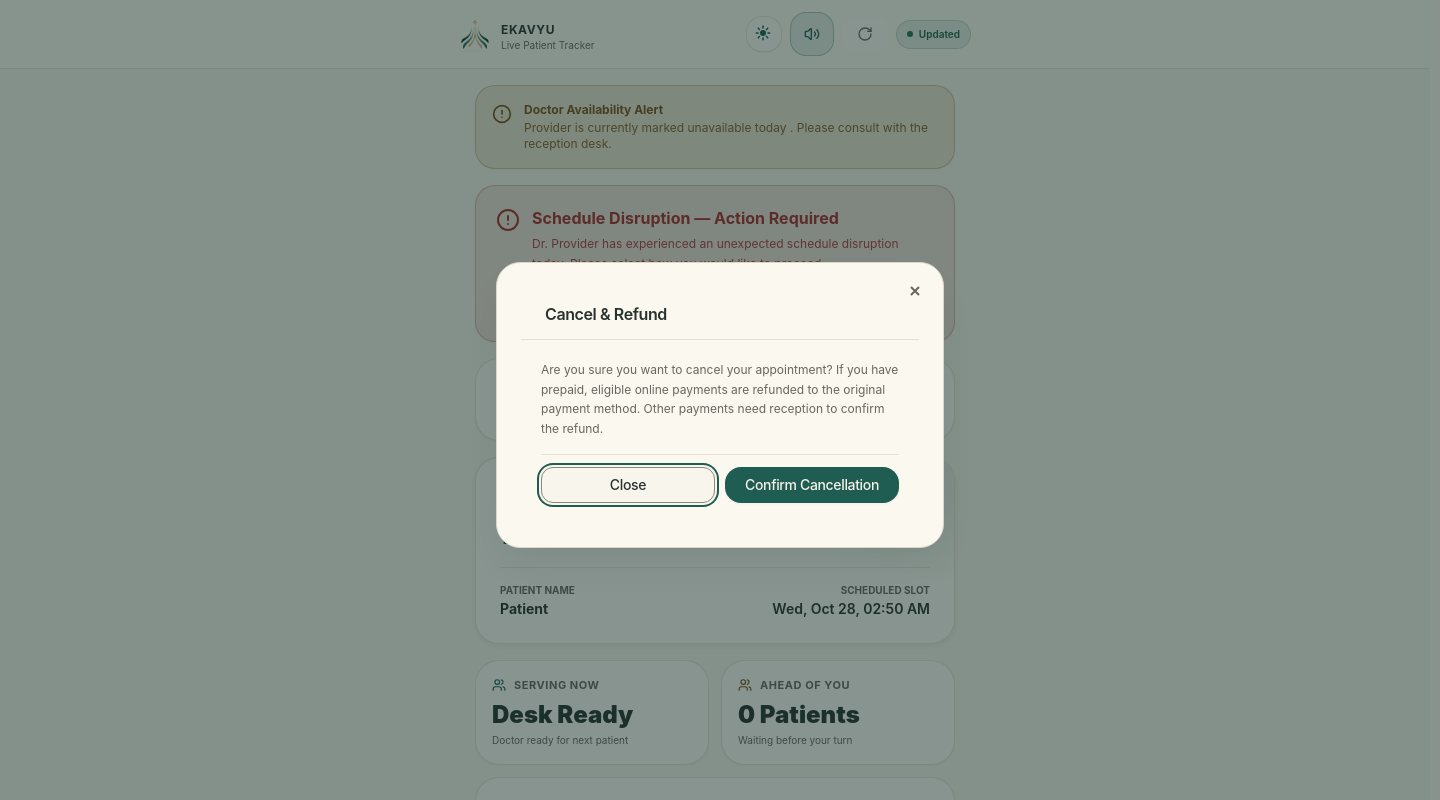
Scenario: reports the server's refunded result without promising an unprocessed refund
The width and height of the screenshot is (1440, 800).
Click the button "Confirm Cancellation": (812, 485) [725, 467, 899, 503]
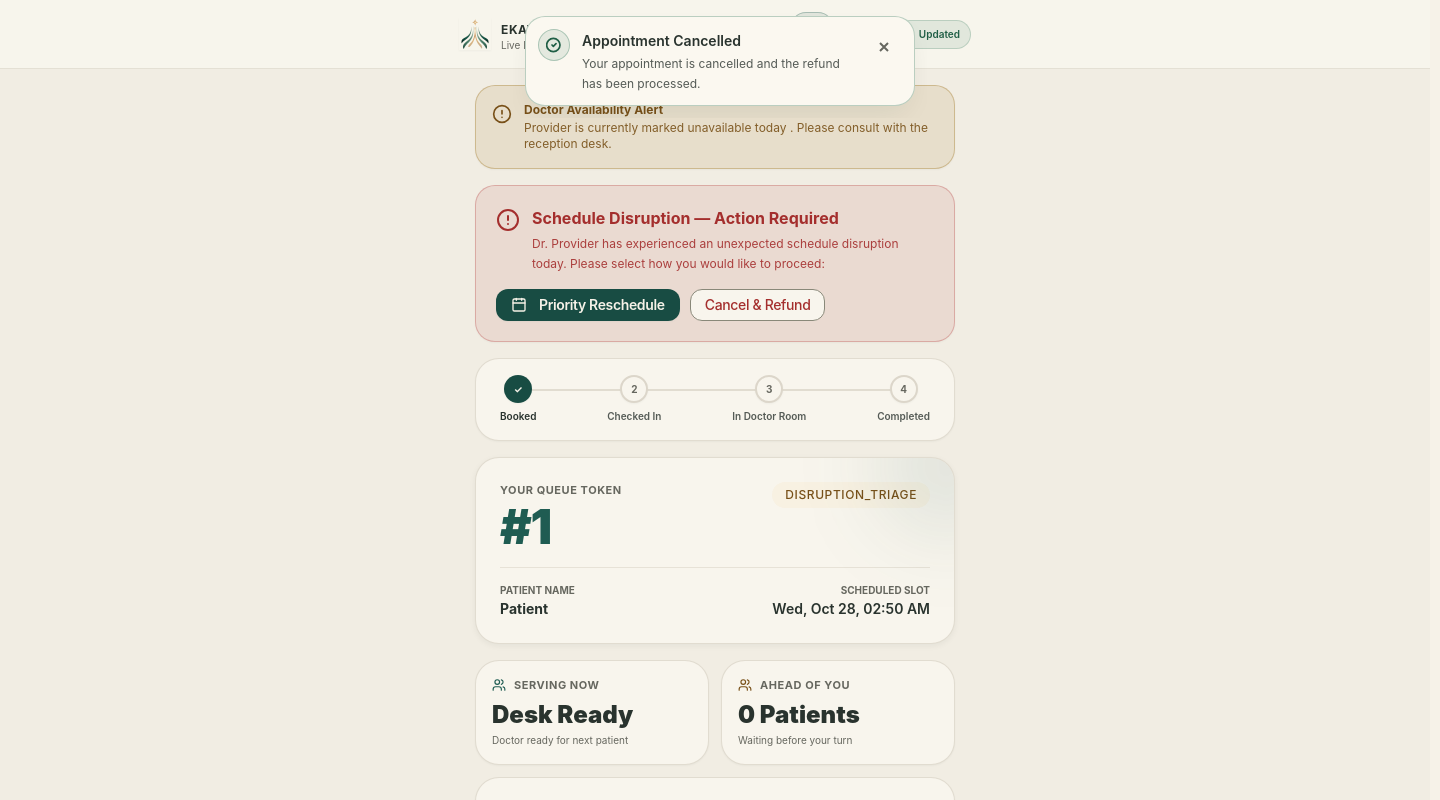
Expected: the text "Your appointment is cancelled and the refund has been processed." is shown, [582, 54, 850, 93]
